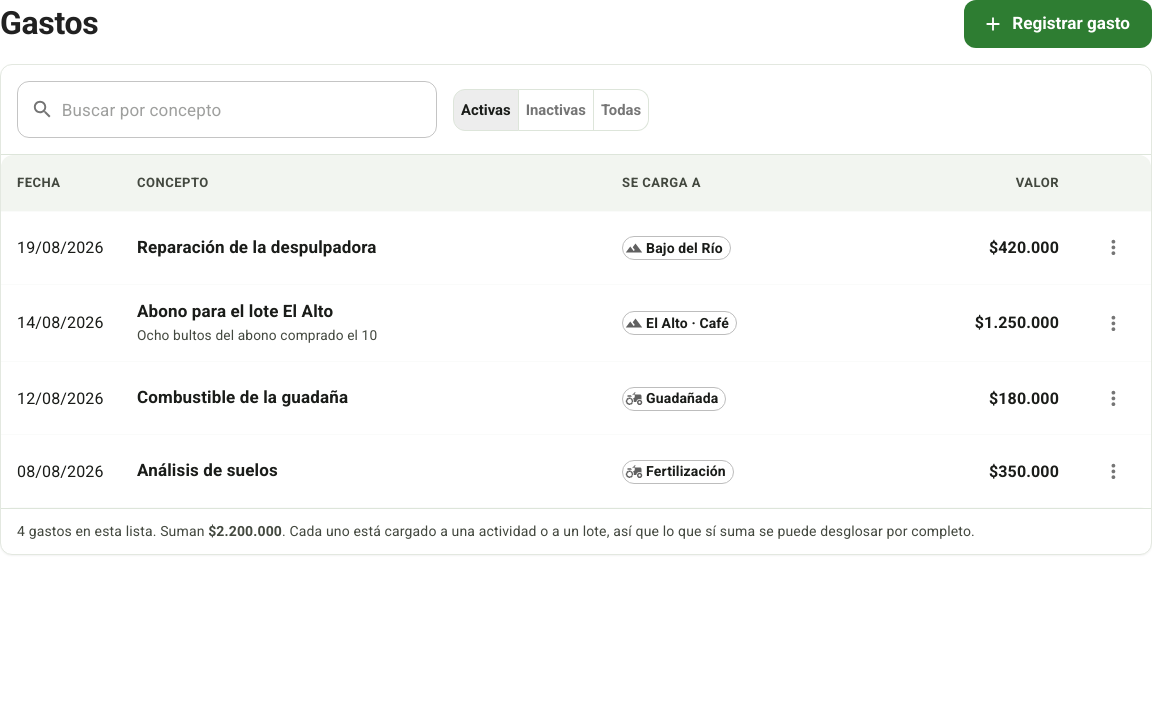
Test: the expenses list › says why when the server refuses, and the note can be closed
The width and height of the screenshot is (1152, 720).
Click the button named "Acciones de Abono para el lote El Alto". click: (1113, 323)
box: [1091,301,1135,345]
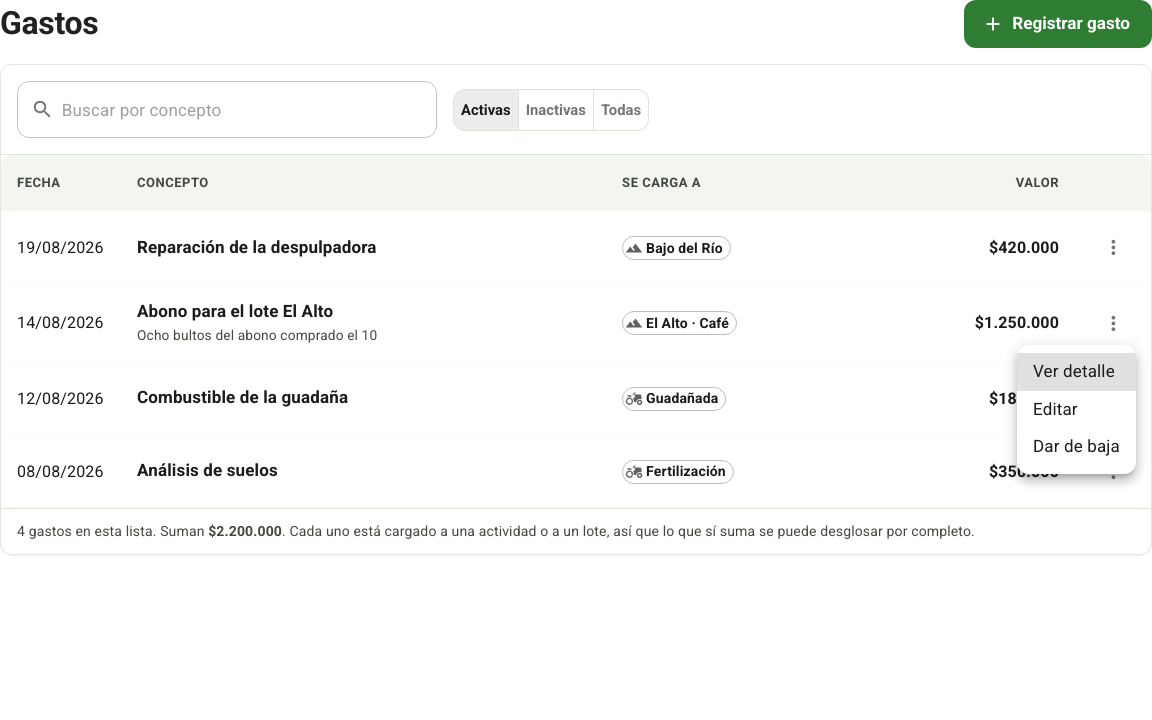
Click the menu item "Dar de baja". click: (1076, 446)
box: [1033,436,1120,456]
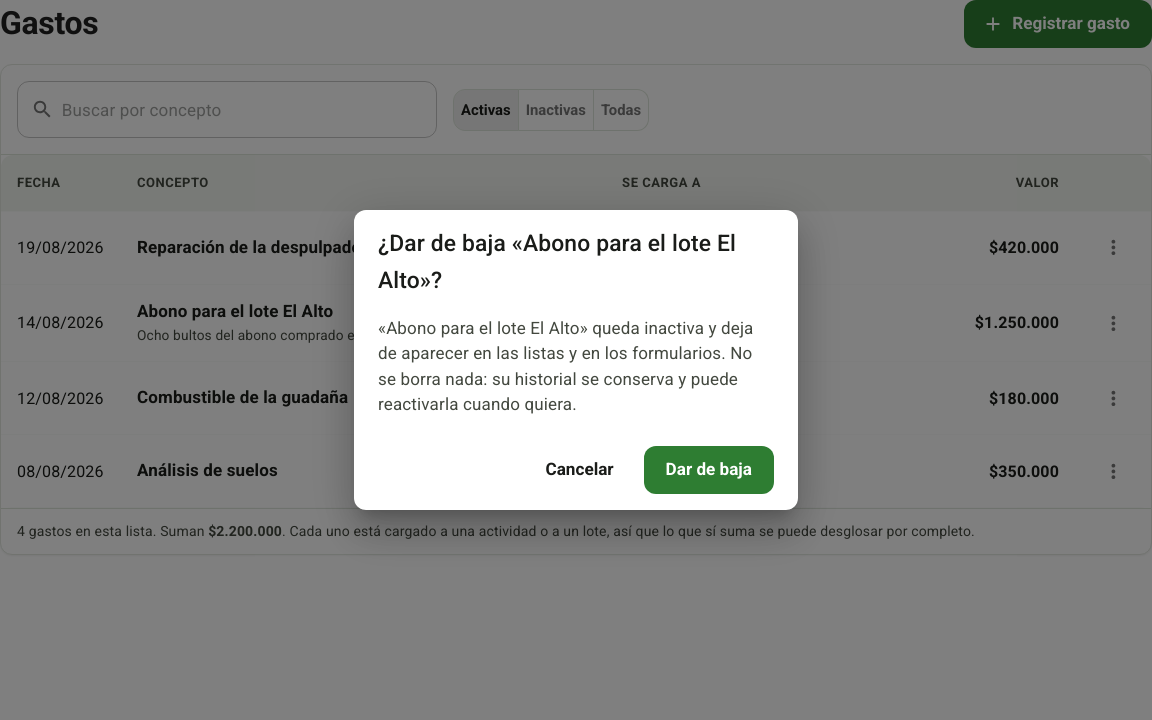
Click the button "Dar de baja". click: (709, 470)
box: [644,446,774,494]
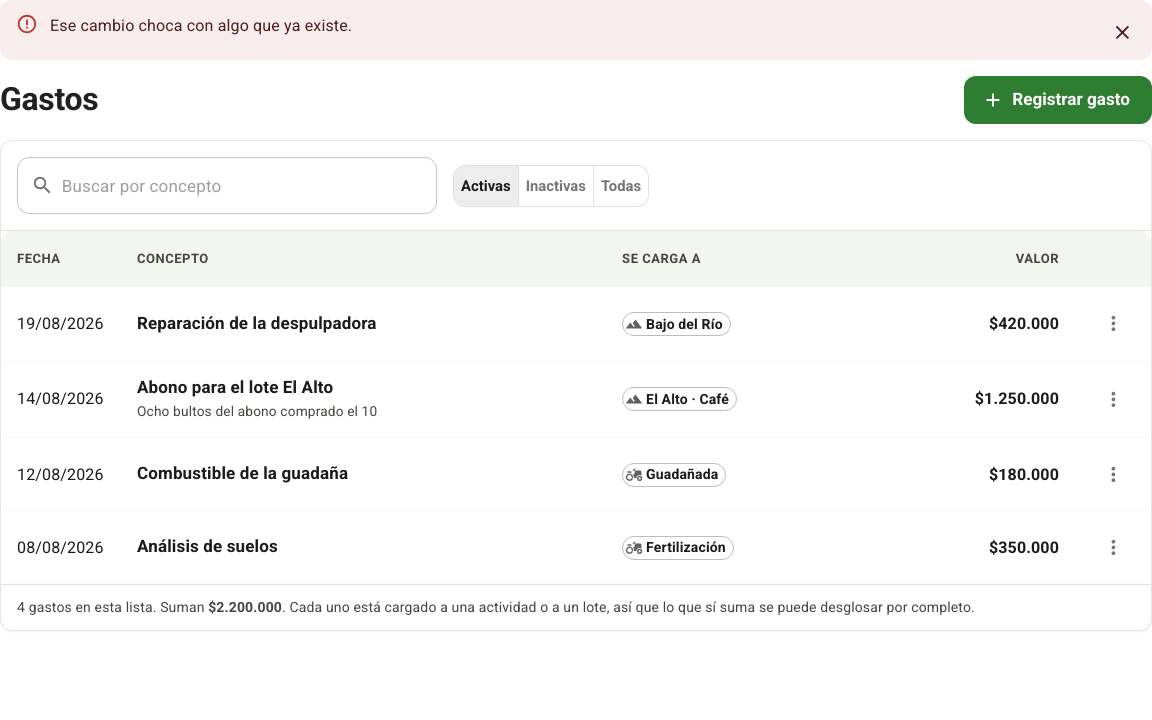
Expected: the text "Abono para el lote El Alto" is shown, [137,377,333,397]
Expected: the dialog is gone
Click the button named "cerrar". click: (1122, 32)
box: [1100,10,1144,54]
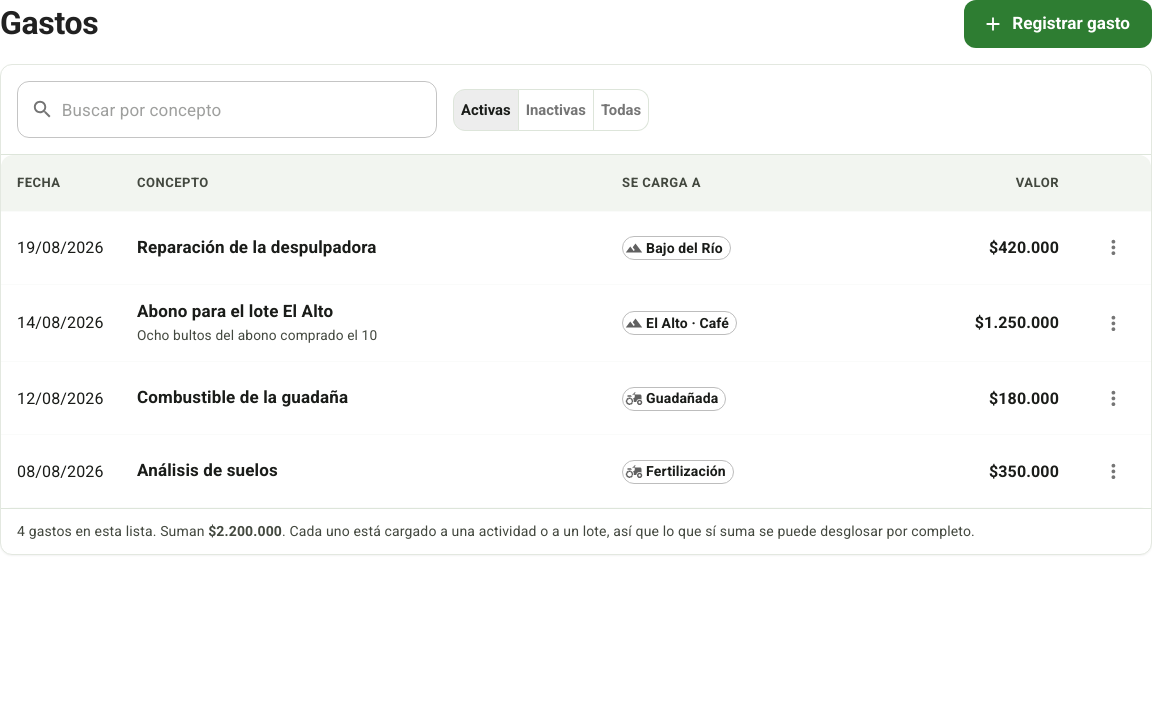
Expected: the message "Ese cambio choca con algo que ya existe." is gone
